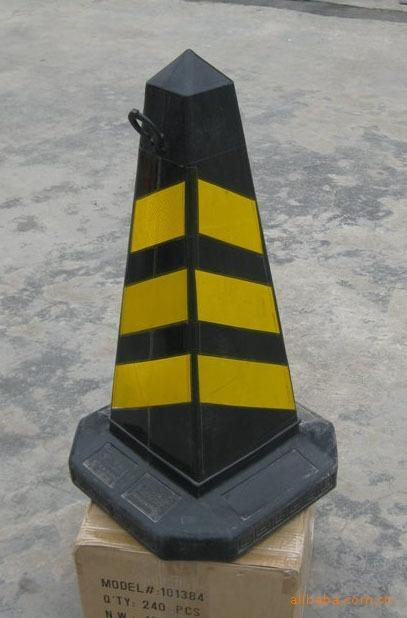cone_barrel: (64, 45, 341, 584)
